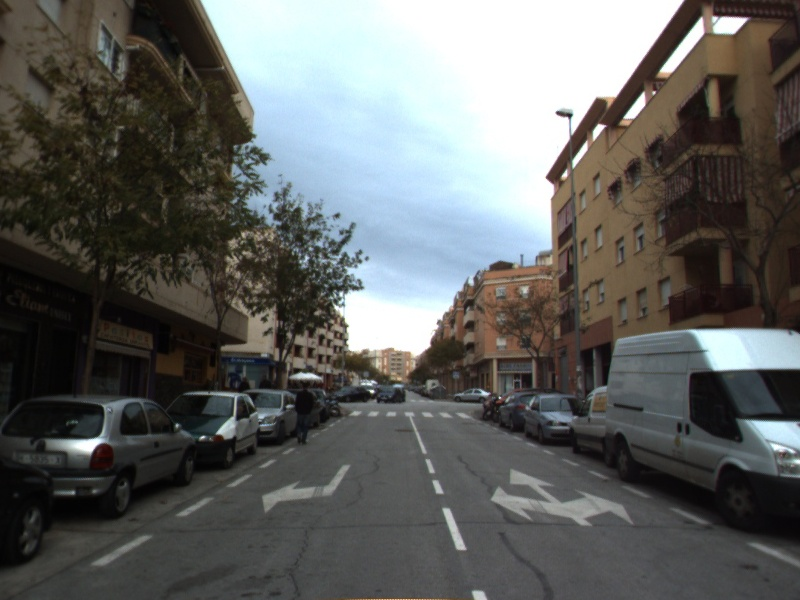STRAIGHT_LEFT_RIGHT: (489, 466, 635, 528)
